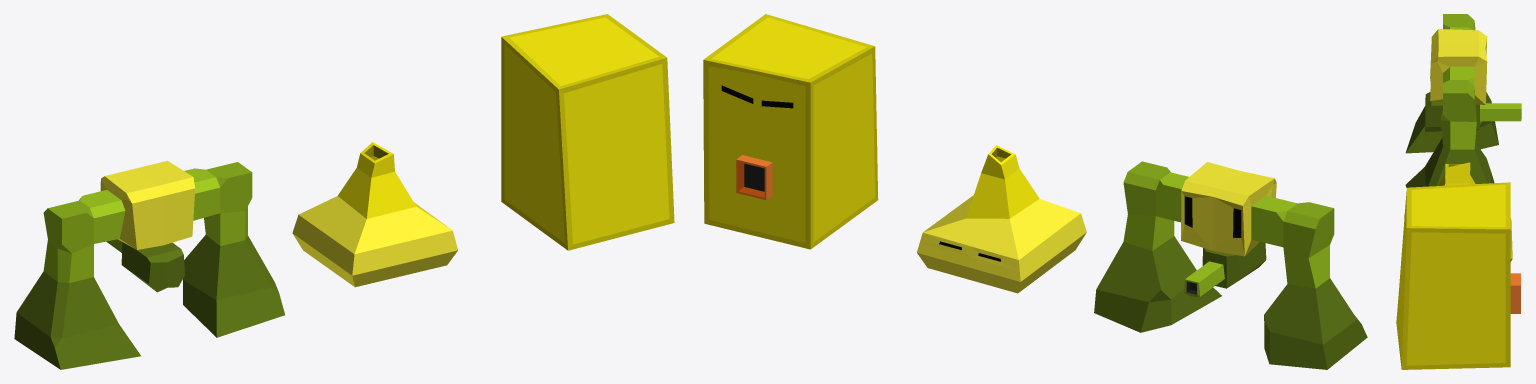
File: Enemies 1.fbx
3 views of the same model, side by side, from view 1: azimuth 30°, elevation 25°; view 2: azimuth 150°, elevation 25°; view 3: azimuth 270°, elevation 25° (orthographic). The views are drawn at different scales.
Visible parts, largest first — view 1: Lvl2, Sniper, Lvl1; view 2: Lvl2, Sniper, Lvl1; view 3: Lvl2, Sniper, Lvl1.
Part boxes in pixels (box(x1,y1,x2,y2)): Lvl2: box(501, 14, 674, 250); Sniper: box(14, 160, 284, 369); Lvl1: box(292, 142, 457, 287); Lvl2: box(703, 14, 878, 249); Sniper: box(1094, 161, 1367, 369); Lvl1: box(917, 145, 1086, 293); Lvl2: box(1396, 182, 1520, 369); Sniper: box(1405, 14, 1521, 187); Lvl1: box(1404, 162, 1512, 261).
Bounding box in the file's own units: 578 × 158 × 121.
